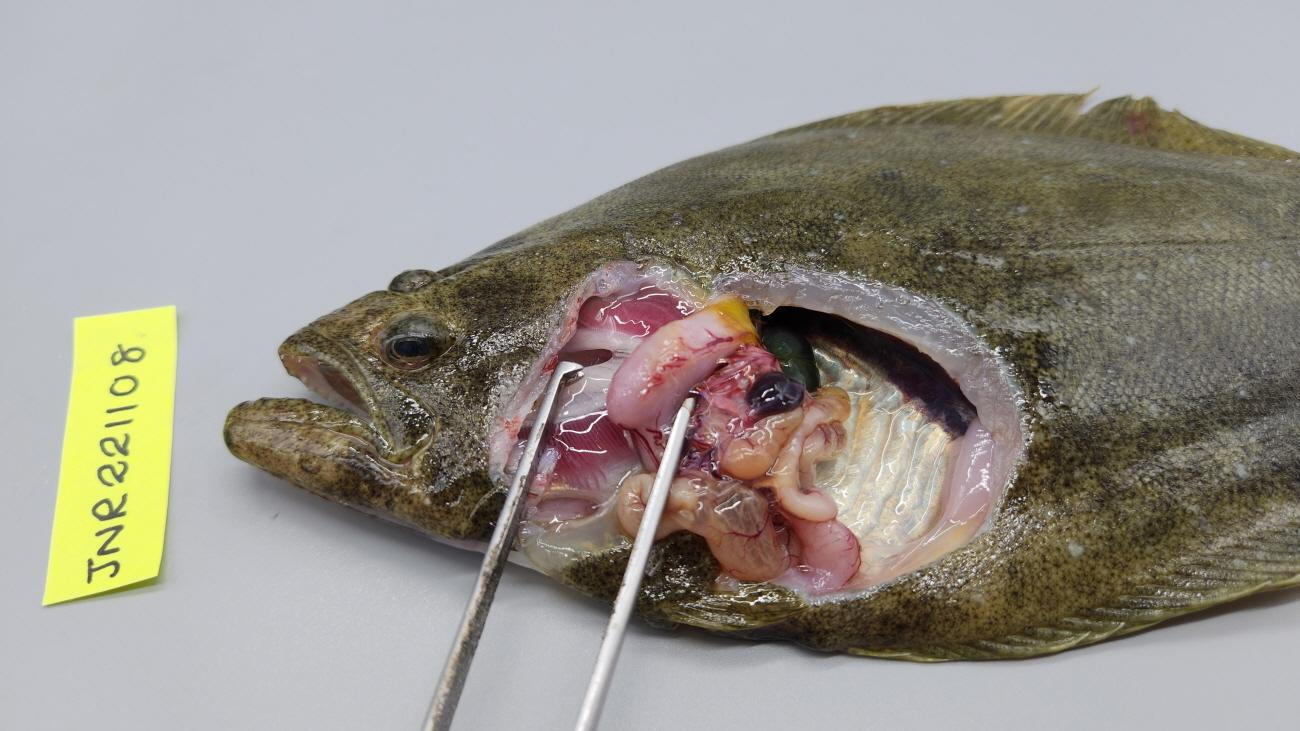POINN: (716, 388, 850, 523)
POSPN: (745, 371, 804, 420)
